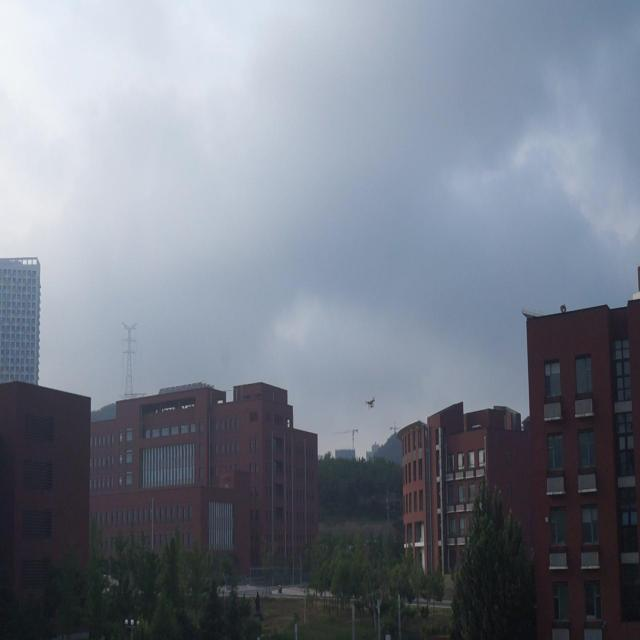UAV: (363, 396, 375, 410)
